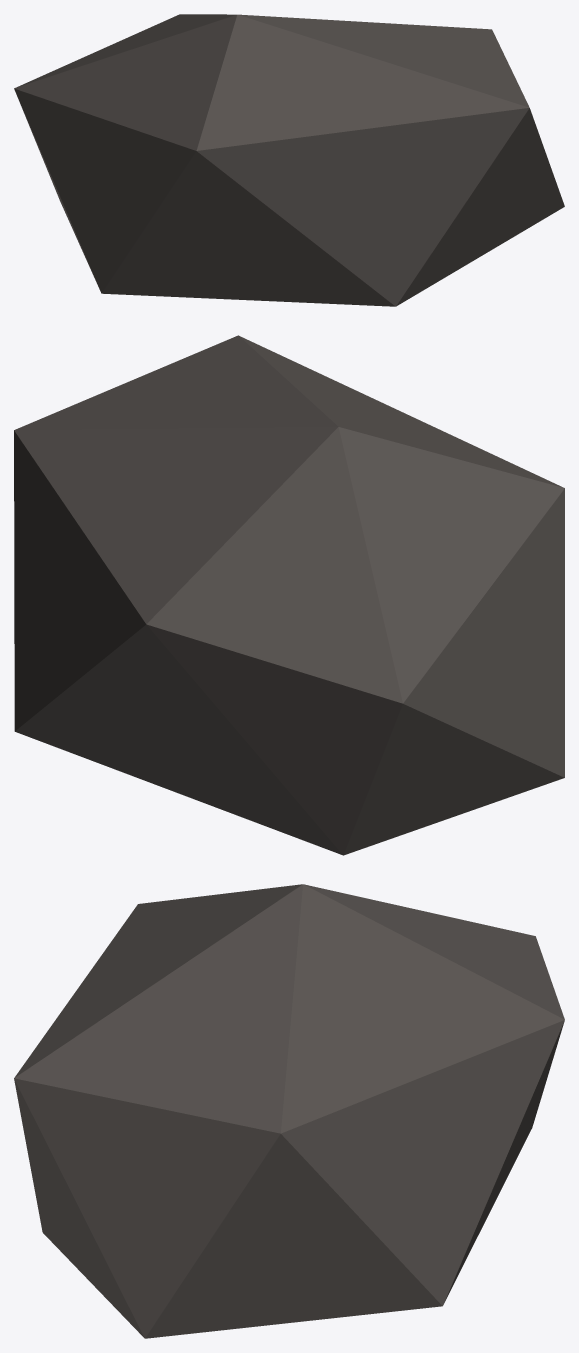
Rendered from Stone_002.fbx.
3 renders of one model, top to bottom at view 1: azimuth 30°, elevation 25°; view 2: azimuth 150°, elevation 25°; view 3: azimuth 270°, elevation 25°, orthographic. The views are drawn at different scales.
Parts seen in each view (by area): view 1: Cylinder.004; view 2: Cylinder.004; view 3: Cylinder.004.
Boxes of the visible parts, box(x1,y1,x2,y2) form: Cylinder.004: box(14, 14, 564, 306); Cylinder.004: box(14, 335, 564, 855); Cylinder.004: box(14, 884, 564, 1338).
Size of the model in its own units: 1.8 by 1.56 by 0.9654.
